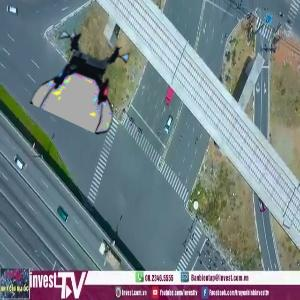drone: (39, 32, 132, 125)
